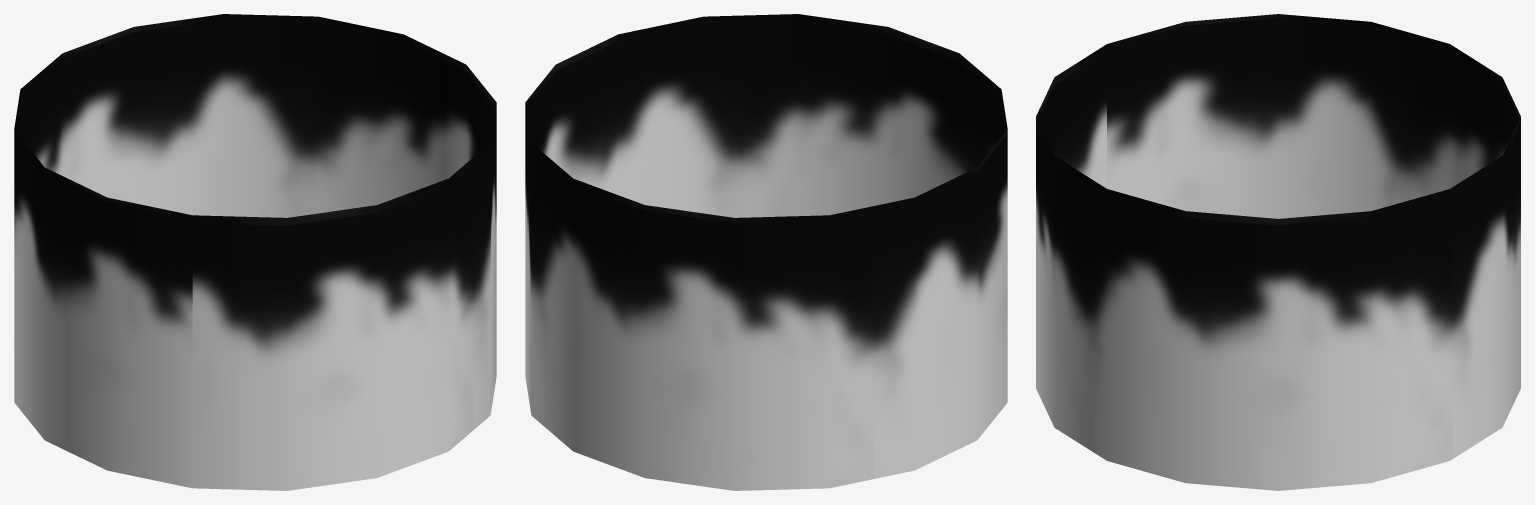
The model's file is FireMesh.fbx.
3 views of the same model, side by side, from view 1: azimuth 30°, elevation 25°; view 2: azimuth 150°, elevation 25°; view 3: azimuth 270°, elevation 25° (orthographic).
Visible parts, largest first — view 1: Cylinder.001; view 2: Cylinder.001; view 3: Cylinder.001.
Boxes of the visible parts, left/top/right/bottom form: Cylinder.001: left=14, top=14, right=496, bottom=490; Cylinder.001: left=525, top=14, right=1007, bottom=490; Cylinder.001: left=1036, top=14, right=1520, bottom=490.
Bounding box in the file's own units: 328 × 203 × 328.
Materials: 1 (1 with a texture image).
